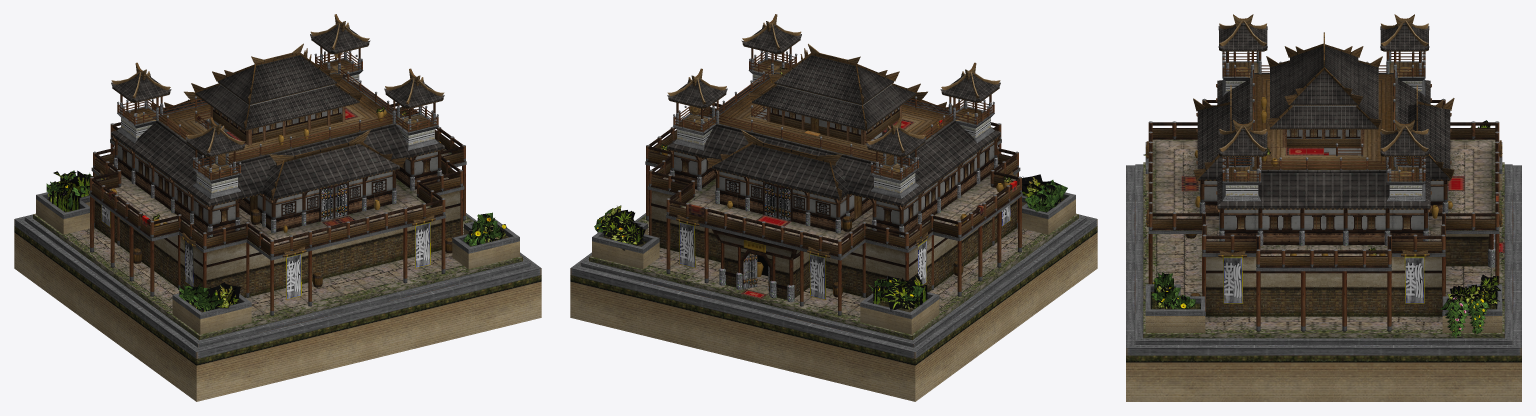
The model's file is han_wonder.glb.
3 views of the same model, side by side, from view 1: azimuth 30°, elevation 25°; view 2: azimuth 150°, elevation 25°; view 3: azimuth 270°, elevation 25° (orthographic). The views are drawn at different scales.
Parts seen in each view (by area): view 1: han_wonder_part0, han_wonder_part1; view 2: han_wonder_part0, han_wonder_part1; view 3: han_wonder_part0, han_wonder_part1.
Boxes of the visible parts, x1,y1,x2,y2 form: han_wonder_part0: (14,14,541,401); han_wonder_part1: (46,104,506,312); han_wonder_part0: (570,14,1097,401); han_wonder_part1: (594,66,1067,311); han_wonder_part0: (1126,14,1521,401); han_wonder_part1: (1143,120,1503,337).
Bounding box in the file's own units: 6.5 × 4.38 × 5.95.
Materials: 2 (2 with a texture image).
